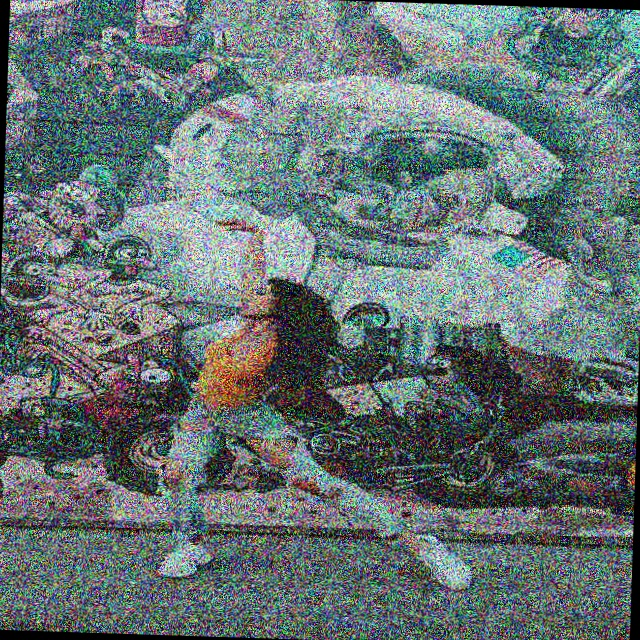Crop_Top: (193, 327, 274, 413)
ripped_pants: (158, 392, 413, 554)
